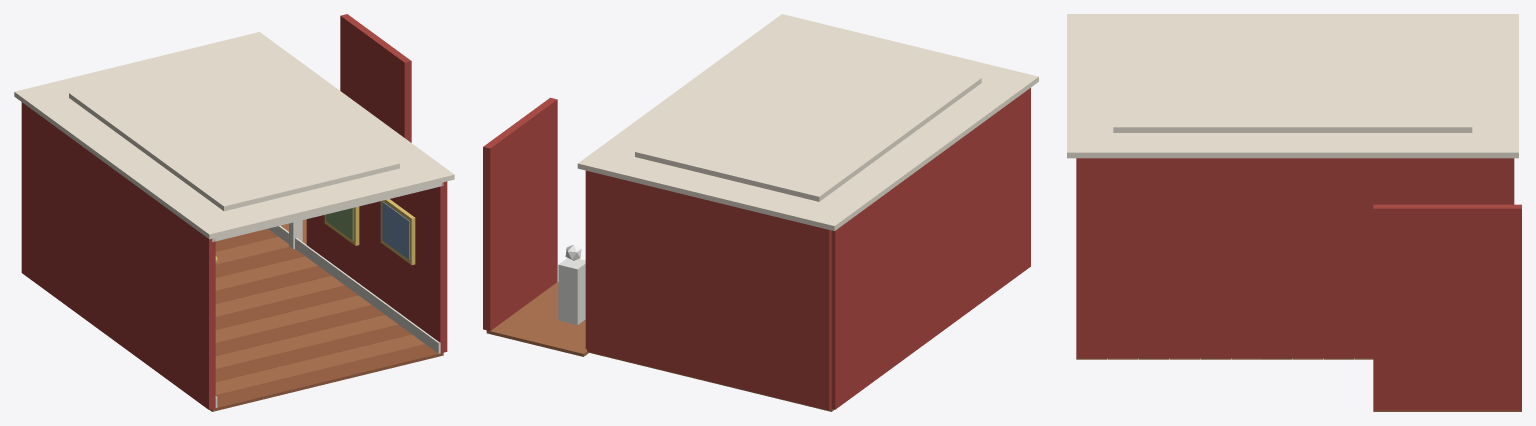
The model's file is D113_Gallery.fbx.
3 views of the same model, side by side, from view 1: azimuth 30°, elevation 25°; view 2: azimuth 150°, elevation 25°; view 3: azimuth 270°, elevation 25° (orthographic). The views are drawn at different scales.
Parts seen in each view (by area): view 1: WallLeft, CeilingInset, Ceiling, WallRight_front, BeyondWall, FloorPlank0, FloorPlank1, FloorPlank2, FloorPlank3, FloorPlank4, BaseboardR, FloorPlank5 (+11 smaller); view 2: WallBack, WallLeft, CeilingInset, Ceiling, BeyondWall, BeyondFloor, Pedestal; view 3: WallRight_front, CeilingInset, BeyondWall, Ceiling, WallRight_backtop, WallRight_backend.
Part boxes in pixels (left/top/right/bottom): WallLeft: left=21, top=102, right=215, bottom=409; CeilingInset: left=69, top=50, right=399, bottom=211; Ceiling: left=14, top=32, right=454, bottom=239; WallRight_front: left=306, top=181, right=447, bottom=353; BeyondWall: left=340, top=14, right=411, bottom=142; FloorPlank0: left=209, top=344, right=443, bottom=411; FloorPlank1: left=215, top=334, right=424, bottom=394; FloorPlank2: left=215, top=324, right=411, bottom=381; FloorPlank3: left=215, top=315, right=397, bottom=368; FloorPlank4: left=215, top=305, right=384, bottom=355; BaseboardR: left=268, top=225, right=440, bottom=353; FloorPlank5: left=215, top=295, right=371, bottom=342; WallBack: left=587, top=171, right=831, bottom=410; WallLeft: left=831, top=88, right=1030, bottom=409; CeilingInset: left=635, top=33, right=981, bottom=201; Ceiling: left=577, top=14, right=1038, bottom=230; BeyondWall: left=483, top=97, right=557, bottom=330; BeyondFloor: left=486, top=282, right=589, bottom=356; Pedestal: left=558, top=258, right=585, bottom=324; WallRight_front: left=1076, top=158, right=1385, bottom=358; CeilingInset: left=1113, top=28, right=1472, bottom=132; BeyondWall: left=1373, top=204, right=1521, bottom=410; Ceiling: left=1067, top=14, right=1518, bottom=158; WallRight_backtop: left=1385, top=158, right=1509, bottom=204; WallRight_backend: left=1485, top=158, right=1509, bottom=204.
Bounding box in the file's own units: 7.23 × 3.86 × 7.35.
